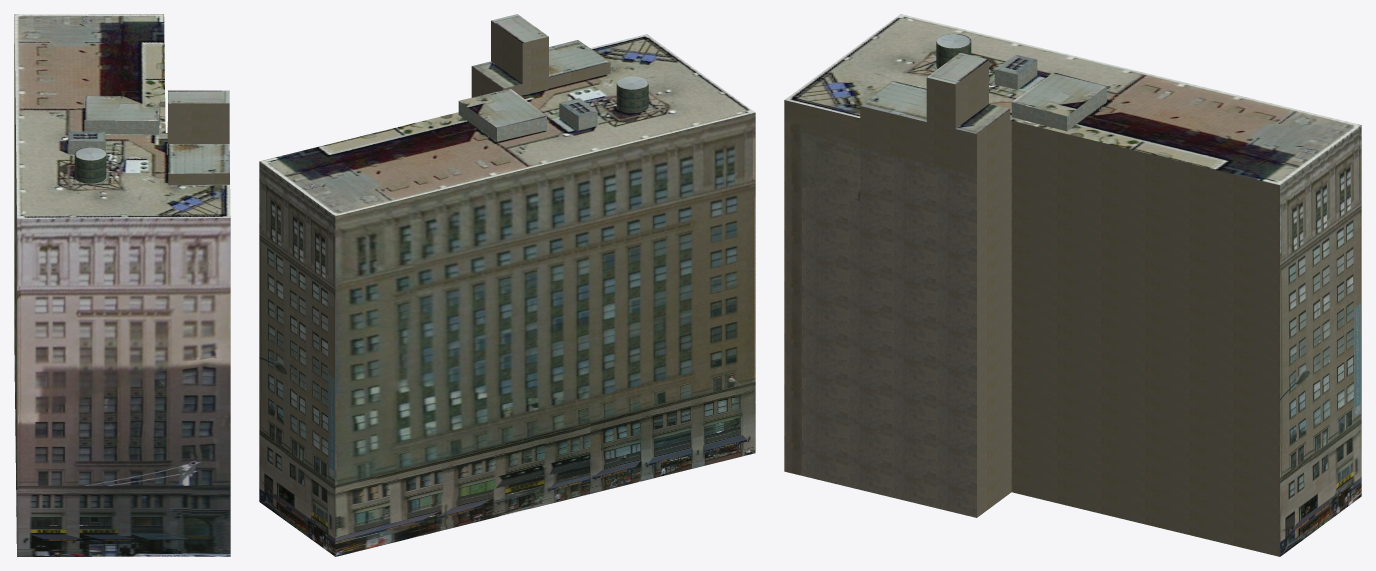
Rendered from 53-park-place.fbx.
3 views of the same model, side by side, from view 1: azimuth 30°, elevation 25°; view 2: azimuth 150°, elevation 25°; view 3: azimuth 270°, elevation 25° (orthographic). The views are drawn at different scales.
Visible parts, largest first — view 1: Model; view 2: Model; view 3: Model.
Part boxes in pixels (box(x1,y1,x2,y2)): Model: box(14, 14, 230, 556); Model: box(259, 14, 755, 556); Model: box(784, 14, 1361, 556).
Bounding box in the file's own units: 1549 × 1805 × 2203.
